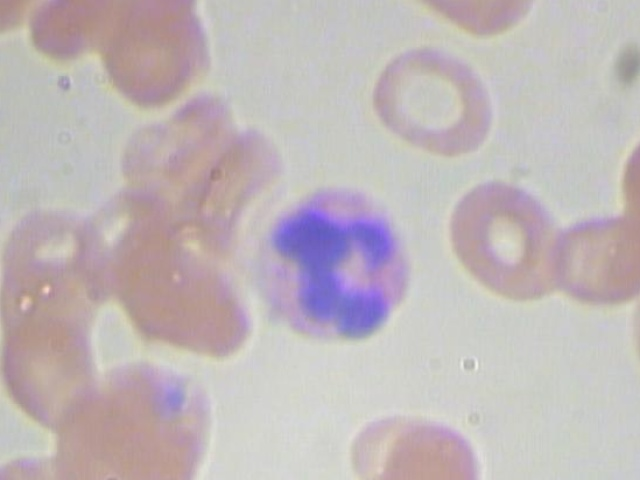Platelets: (0, 105, 5, 150), (635, 477, 640, 480)
RBC: (362, 33, 517, 167), (441, 173, 576, 301), (89, 0, 214, 111), (0, 301, 103, 433), (537, 211, 640, 313), (377, 417, 488, 480)
WBC: (218, 176, 427, 361)
